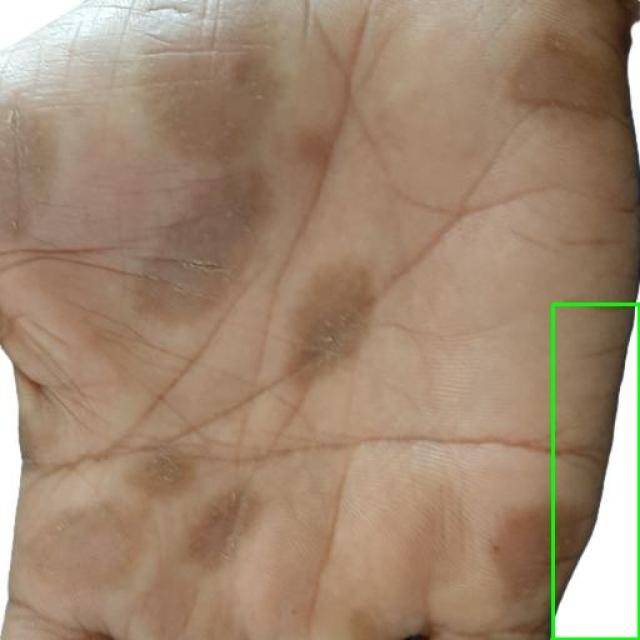Contact Dermatitis: (552, 304, 639, 639)
